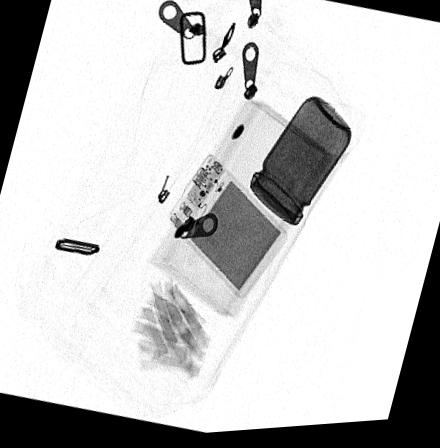Powerbank: (163, 156, 287, 303)
